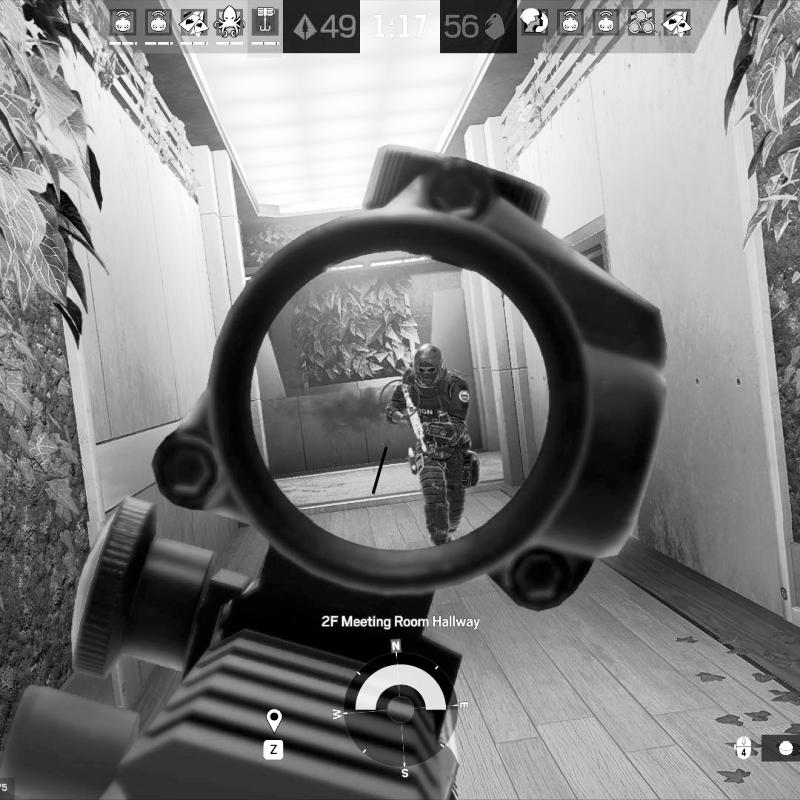Character: (385, 342, 482, 550)
Head: (414, 344, 445, 386)
